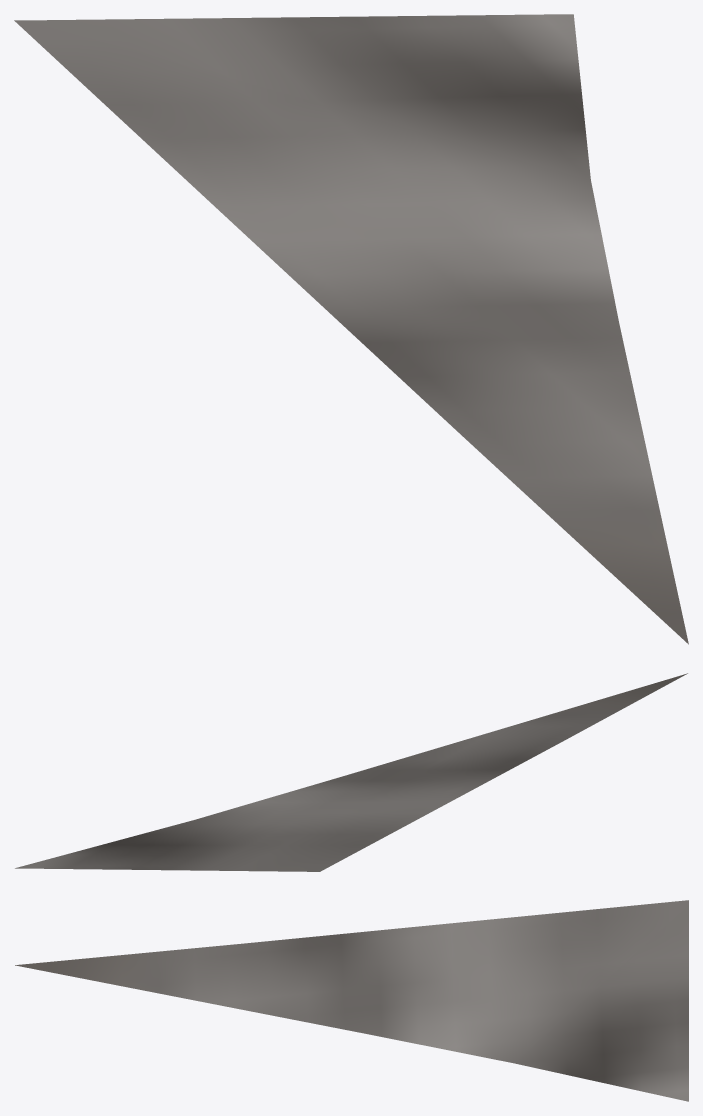
The picture shows the model from 3 angles, top to bottom: view 1: azimuth 30°, elevation 25°; view 2: azimuth 150°, elevation 25°; view 3: azimuth 270°, elevation 25°; orthographic projection. The views are drawn at different scales.
Bounding box in the file's own units: 0.0281 × 0.00626 × 0.0588.
1 material, 1 textured.
